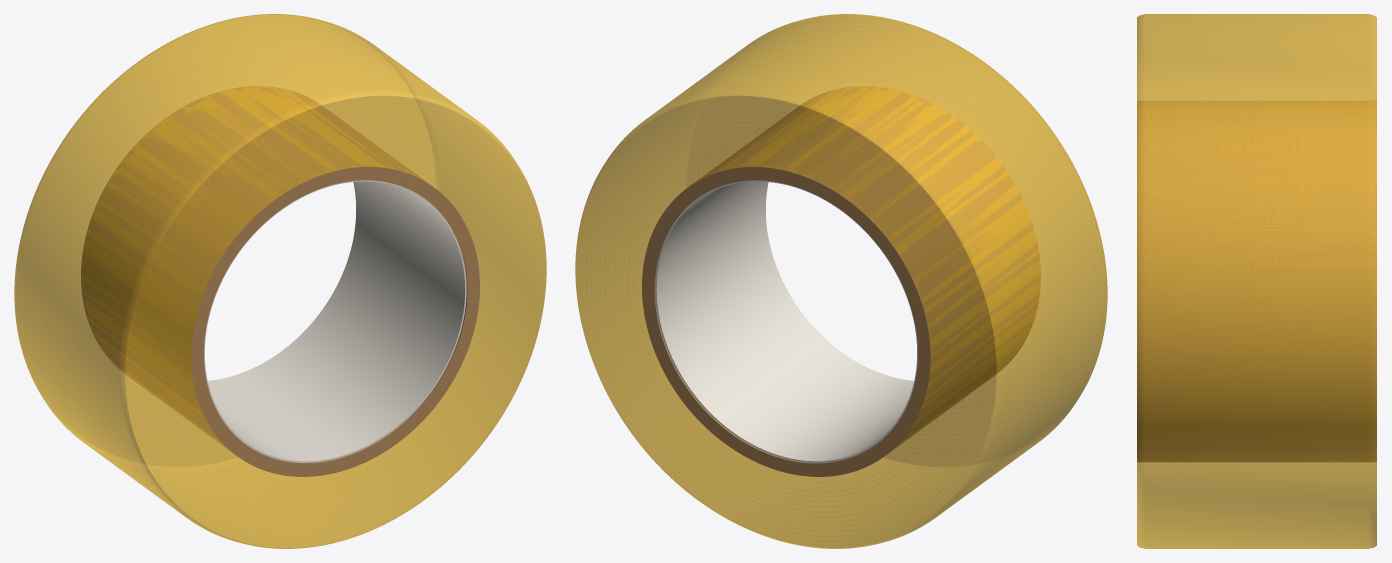
Rendered from tape_v1.glb.
The picture shows the model from 3 angles, left to right: view 1: azimuth 30°, elevation 25°; view 2: azimuth 150°, elevation 25°; view 3: azimuth 270°, elevation 25°; orthographic projection. The views are drawn at different scales.
Visible parts, largest first — view 1: tape_roll, cardboard_core, inner_paper_liner; view 2: tape_roll, cardboard_core, inner_paper_liner; view 3: tape_roll, cardboard_core.
Part boxes in pixels (x1,y1,x2,y2): tape_roll: (14,14,546,548); cardboard_core: (81,86,479,476); inner_paper_liner: (204,180,466,462); tape_roll: (575,14,1107,548); cardboard_core: (642,86,1040,476); inner_paper_liner: (655,180,917,462); tape_roll: (1137,14,1376,548); cardboard_core: (1137,100,1376,462).
Bounding box in the file's own units: 0.068 × 0.068 × 0.0307.
